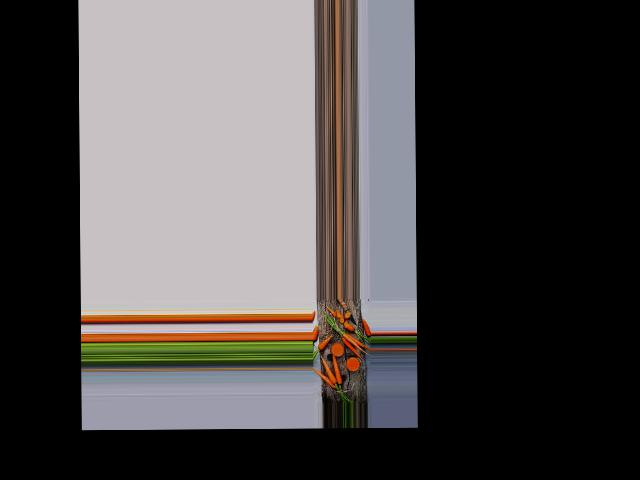carrot: (313, 364, 337, 393)
